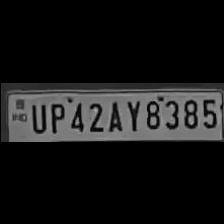2: (84, 98, 104, 132)
3: (161, 96, 179, 128)
4: (65, 98, 84, 132)
5: (198, 95, 218, 129)
8: (142, 96, 160, 130), (180, 95, 198, 129)
A: (104, 96, 122, 132)
P: (44, 97, 64, 132)
U: (28, 100, 46, 132)
Y: (122, 97, 142, 131)
